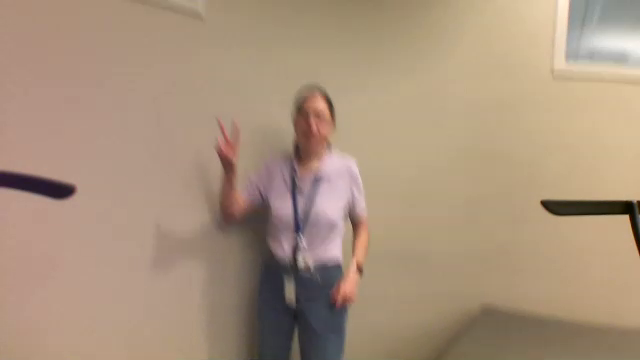peace: (212, 110, 242, 168)
